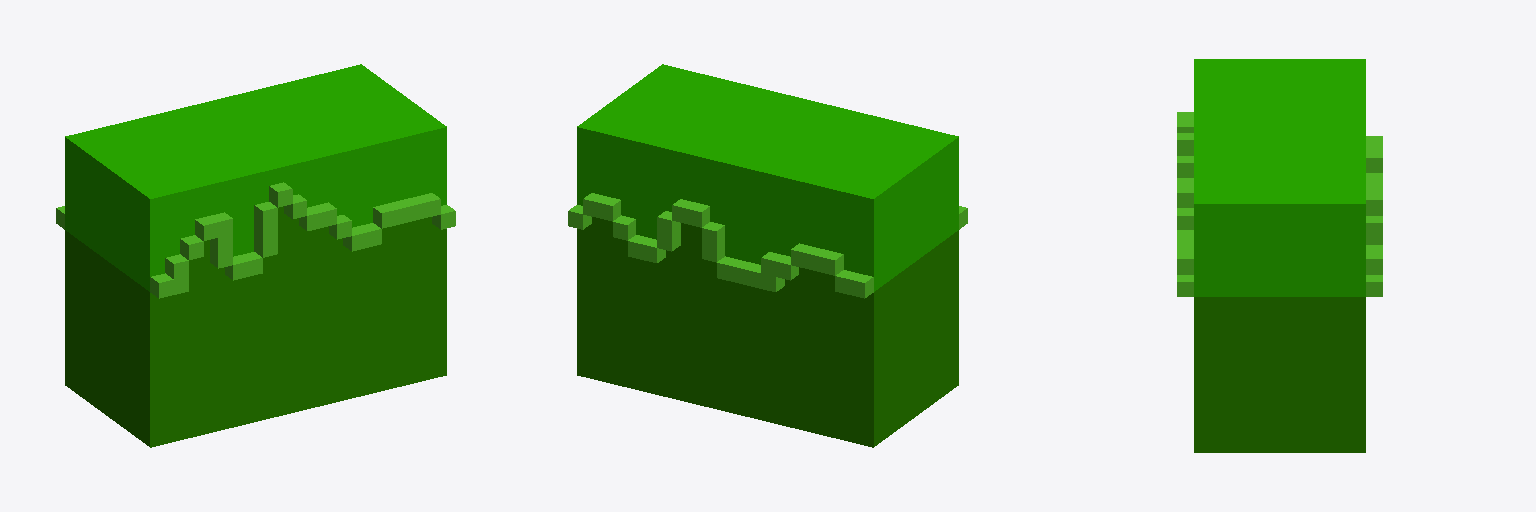
The picture shows the model from 3 angles: view 1: azimuth 30°, elevation 25°; view 2: azimuth 150°, elevation 25°; view 3: azimuth 270°, elevation 25°; orthographic projection.
Visible parts, largest first — view 1: object 1; view 2: object 1; view 3: object 1.
Part boxes in pixels (left/top/right/bottom): object 1: left=56, top=64, right=455, bottom=447; object 1: left=568, top=64, right=967, bottom=447; object 1: left=1177, top=59, right=1382, bottom=452.
Bounding box in the file's own units: 2 × 1.6 × 1.2.
1 materials, 1 textured.